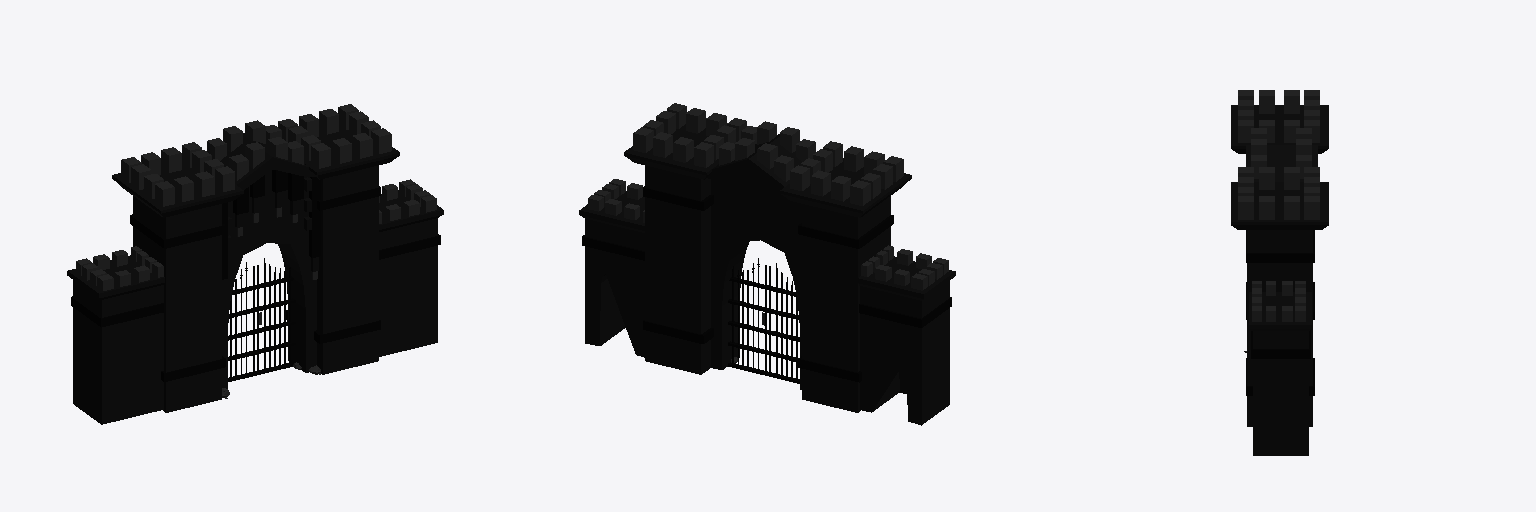
Rendered from gate.obj.
3 views of the same model, side by side, from view 1: azimuth 30°, elevation 25°; view 2: azimuth 150°, elevation 25°; view 3: azimuth 270°, elevation 25° (orthographic).
Visible parts, largest first — view 1: Low_Poly_Gate_Cube.006; view 2: Low_Poly_Gate_Cube.006; view 3: Low_Poly_Gate_Cube.006.
Boxes of the visible parts, x1,y1,x2,y2 form: Low_Poly_Gate_Cube.006: [67, 104, 443, 424]; Low_Poly_Gate_Cube.006: [579, 103, 955, 425]; Low_Poly_Gate_Cube.006: [1231, 90, 1328, 455].
Bounding box in the file's own units: 211 × 141 × 52.15.